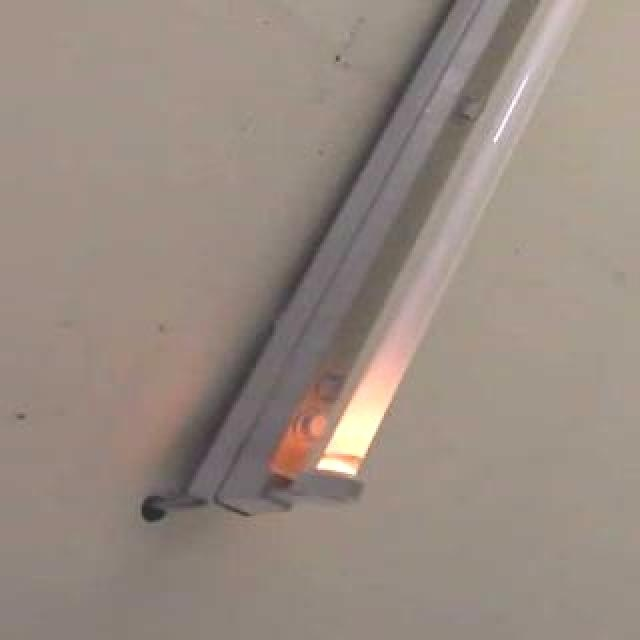fluorescent tube: (140, 0, 640, 560)
